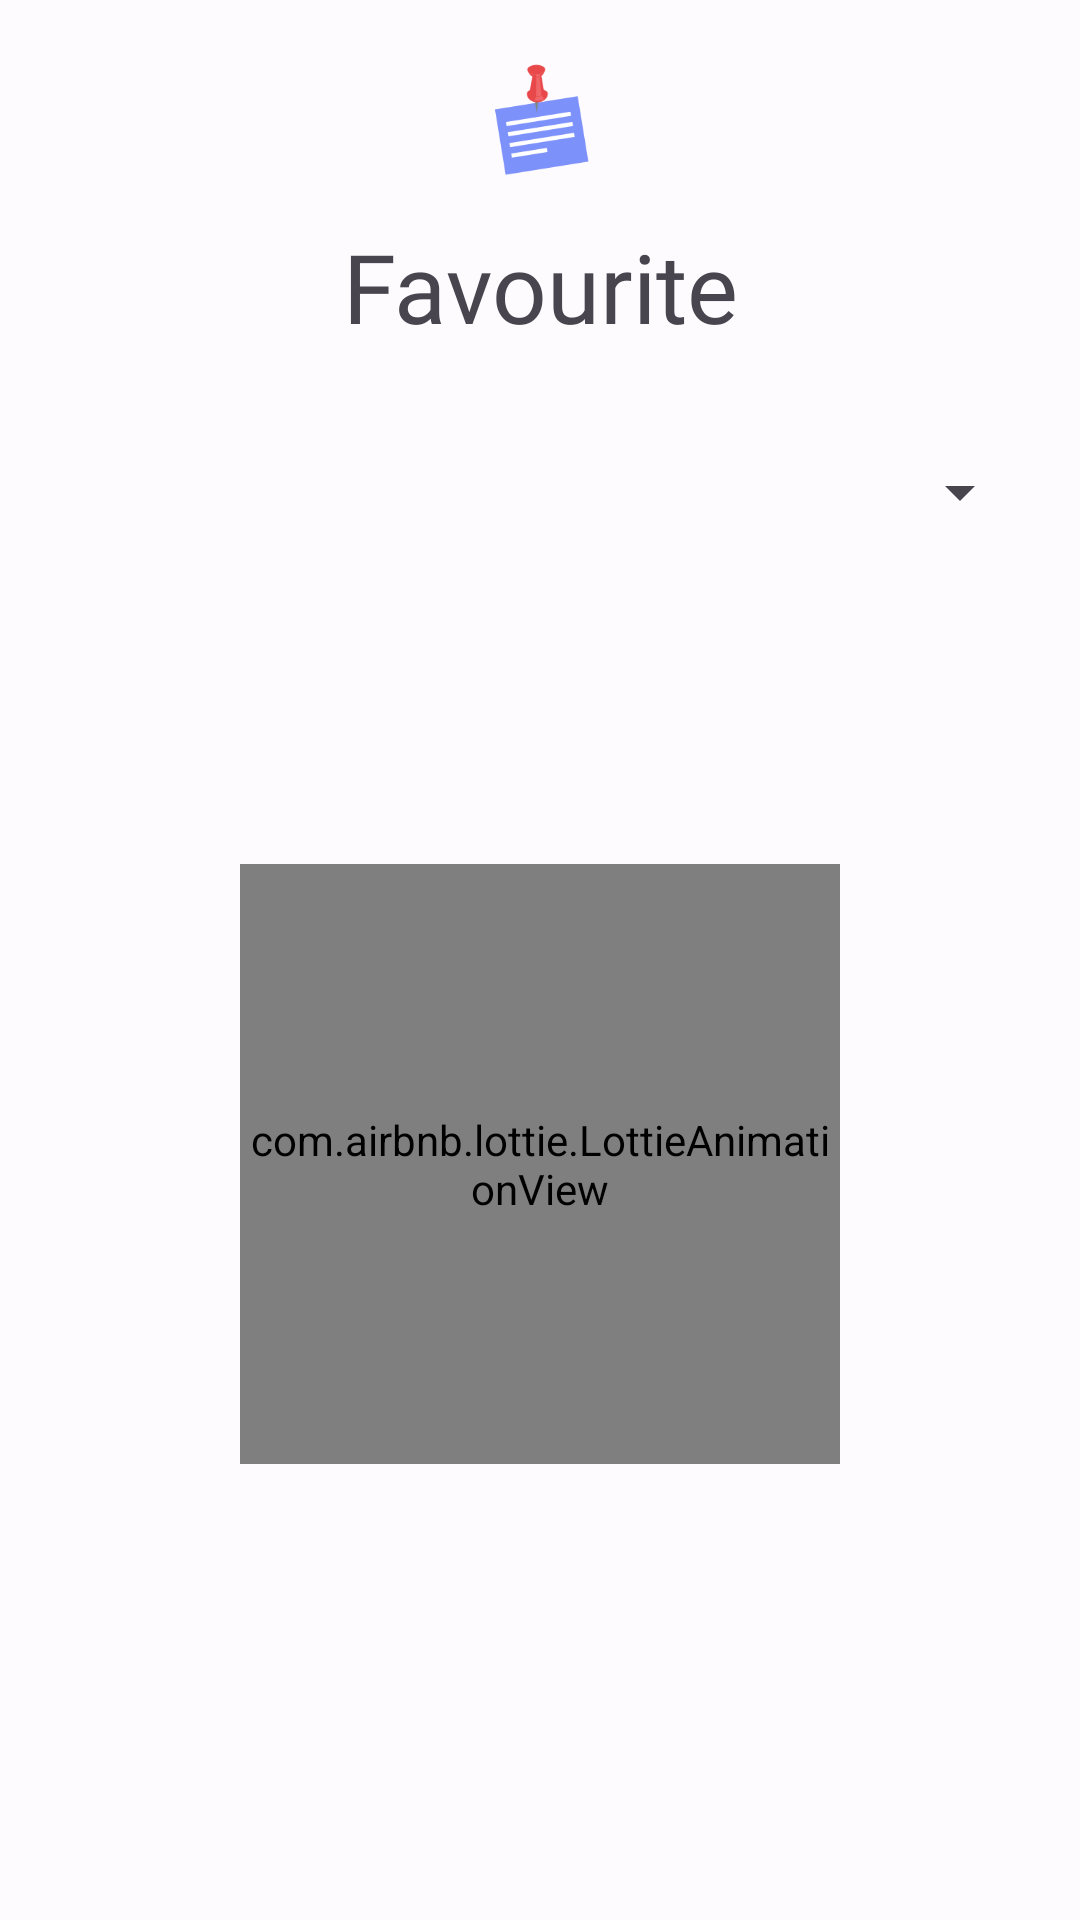

Icons on this 1080px x 1920px Android screen, each with its box as (x1, y1, x2, y2):
note: (495, 64, 589, 175)
